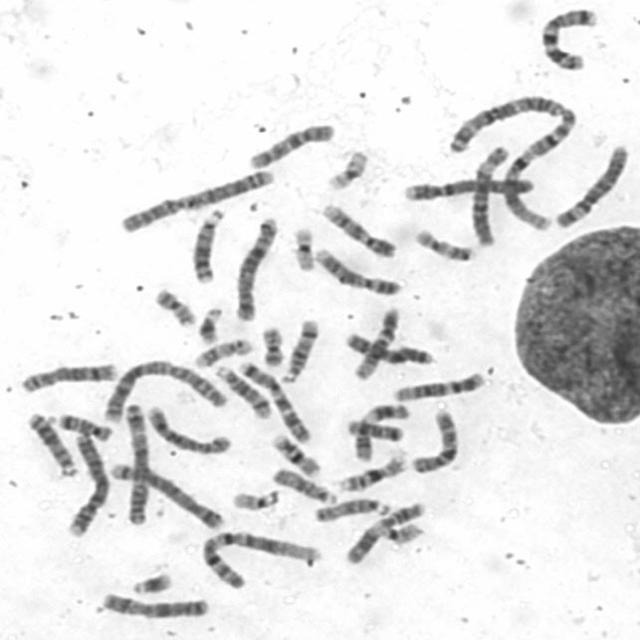A1: (498, 92, 576, 235), (195, 525, 324, 590)
A2: (116, 165, 276, 234), (97, 355, 231, 423)
A3: (442, 90, 578, 159), (120, 398, 152, 525)
B4: (64, 431, 112, 537), (398, 172, 539, 204)
B5: (104, 458, 227, 531), (229, 211, 282, 323)
C10: (244, 120, 337, 171), (408, 406, 461, 475)
C11: (341, 498, 427, 565), (349, 399, 412, 462)
C12: (349, 304, 404, 380), (389, 367, 489, 403)
C6: (549, 141, 631, 230), (466, 141, 512, 248)
C7: (231, 356, 314, 444), (536, 2, 601, 73)
C8: (141, 400, 234, 457), (16, 358, 120, 394)
C9: (310, 244, 404, 297), (318, 200, 400, 260)
D13: (22, 408, 80, 478), (187, 204, 228, 285)
D14: (212, 358, 278, 420), (278, 313, 322, 384)
D15: (269, 465, 338, 505), (310, 494, 391, 524)
E16: (336, 451, 409, 493), (267, 430, 323, 478)
E17: (410, 224, 480, 263), (191, 334, 255, 369)
E18: (48, 409, 114, 442), (342, 415, 406, 443)
F19: (322, 145, 372, 192), (288, 222, 318, 273)
F20: (149, 282, 199, 328), (258, 321, 288, 368)
G21: (128, 567, 176, 596), (193, 302, 224, 346)
G22: (227, 484, 284, 512), (378, 518, 426, 545)
X: (340, 327, 437, 368), (96, 588, 213, 621)
